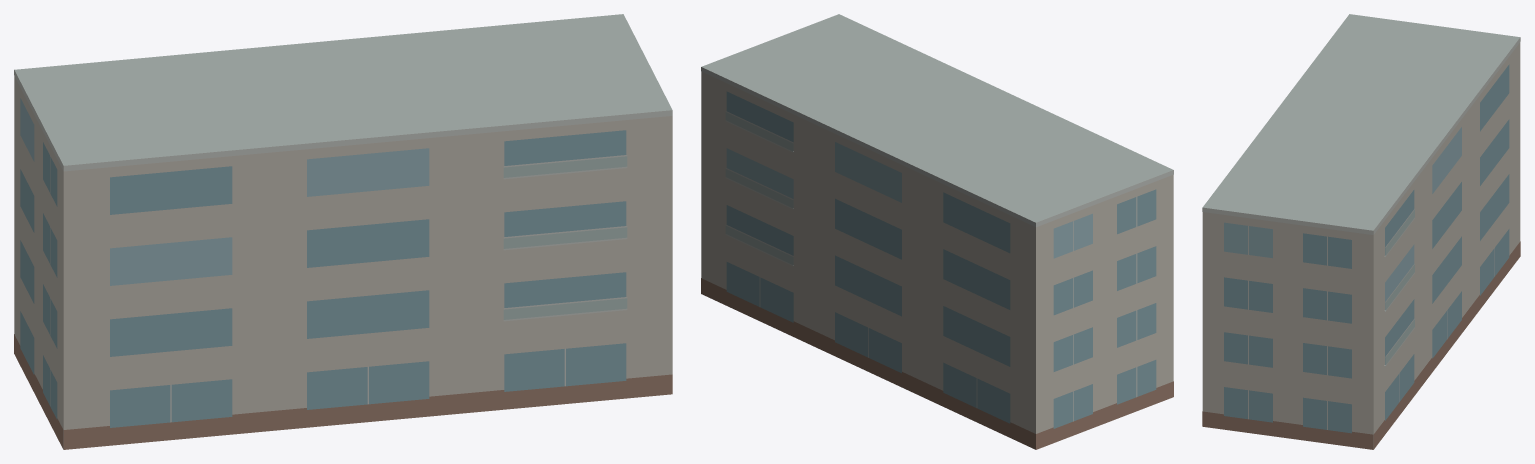
The model's file is residential-b9fe2637-e6c7-4b1d-8eee-355a31581e8b.glb.
3 views of the same model, side by side, from view 1: azimuth 30°, elevation 25°; view 2: azimuth 150°, elevation 25°; view 3: azimuth 270°, elevation 25° (orthographic). The views are drawn at different scales.
Visible parts, largest first — view 1: residential-b9fe2637-e6c7-4b1d-8eee-355a31581e8b.tmp; view 2: residential-b9fe2637-e6c7-4b1d-8eee-355a31581e8b.tmp; view 3: residential-b9fe2637-e6c7-4b1d-8eee-355a31581e8b.tmp.
Boxes of the visible parts, x1=… form: residential-b9fe2637-e6c7-4b1d-8eee-355a31581e8b.tmp: x1=14, y1=14, x2=672, y2=449; residential-b9fe2637-e6c7-4b1d-8eee-355a31581e8b.tmp: x1=701, y1=14, x2=1173, y2=449; residential-b9fe2637-e6c7-4b1d-8eee-355a31581e8b.tmp: x1=1202, y1=14, x2=1520, y2=449.
Bounding box in the file's own units: 25.88 × 12.2 × 16.05.
